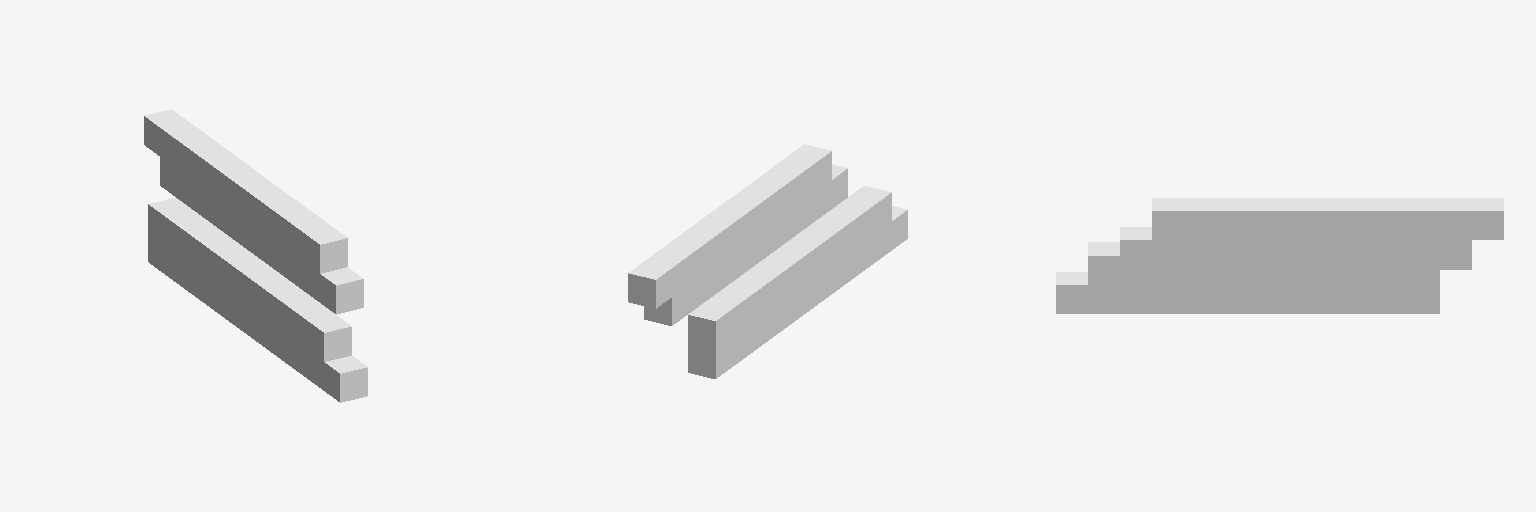
File: Extra-3-RedFighter_WingTip_L.obj
3 renders of one model, left to right at view 1: azimuth 30°, elevation 25°; view 2: azimuth 150°, elevation 25°; view 3: azimuth 270°, elevation 25°, orthographic.
Parts seen in each view (by area): view 1: RedFighter_WingTip_L; view 2: RedFighter_WingTip_L; view 3: RedFighter_WingTip_L.
Part boxes in pixels (bbox=[...]): RedFighter_WingTip_L: bbox=[144, 109, 367, 402]; RedFighter_WingTip_L: bbox=[628, 144, 907, 378]; RedFighter_WingTip_L: bbox=[1056, 198, 1503, 313].
Size of the model in its own units: 0.2 by 0.4 by 1.4.